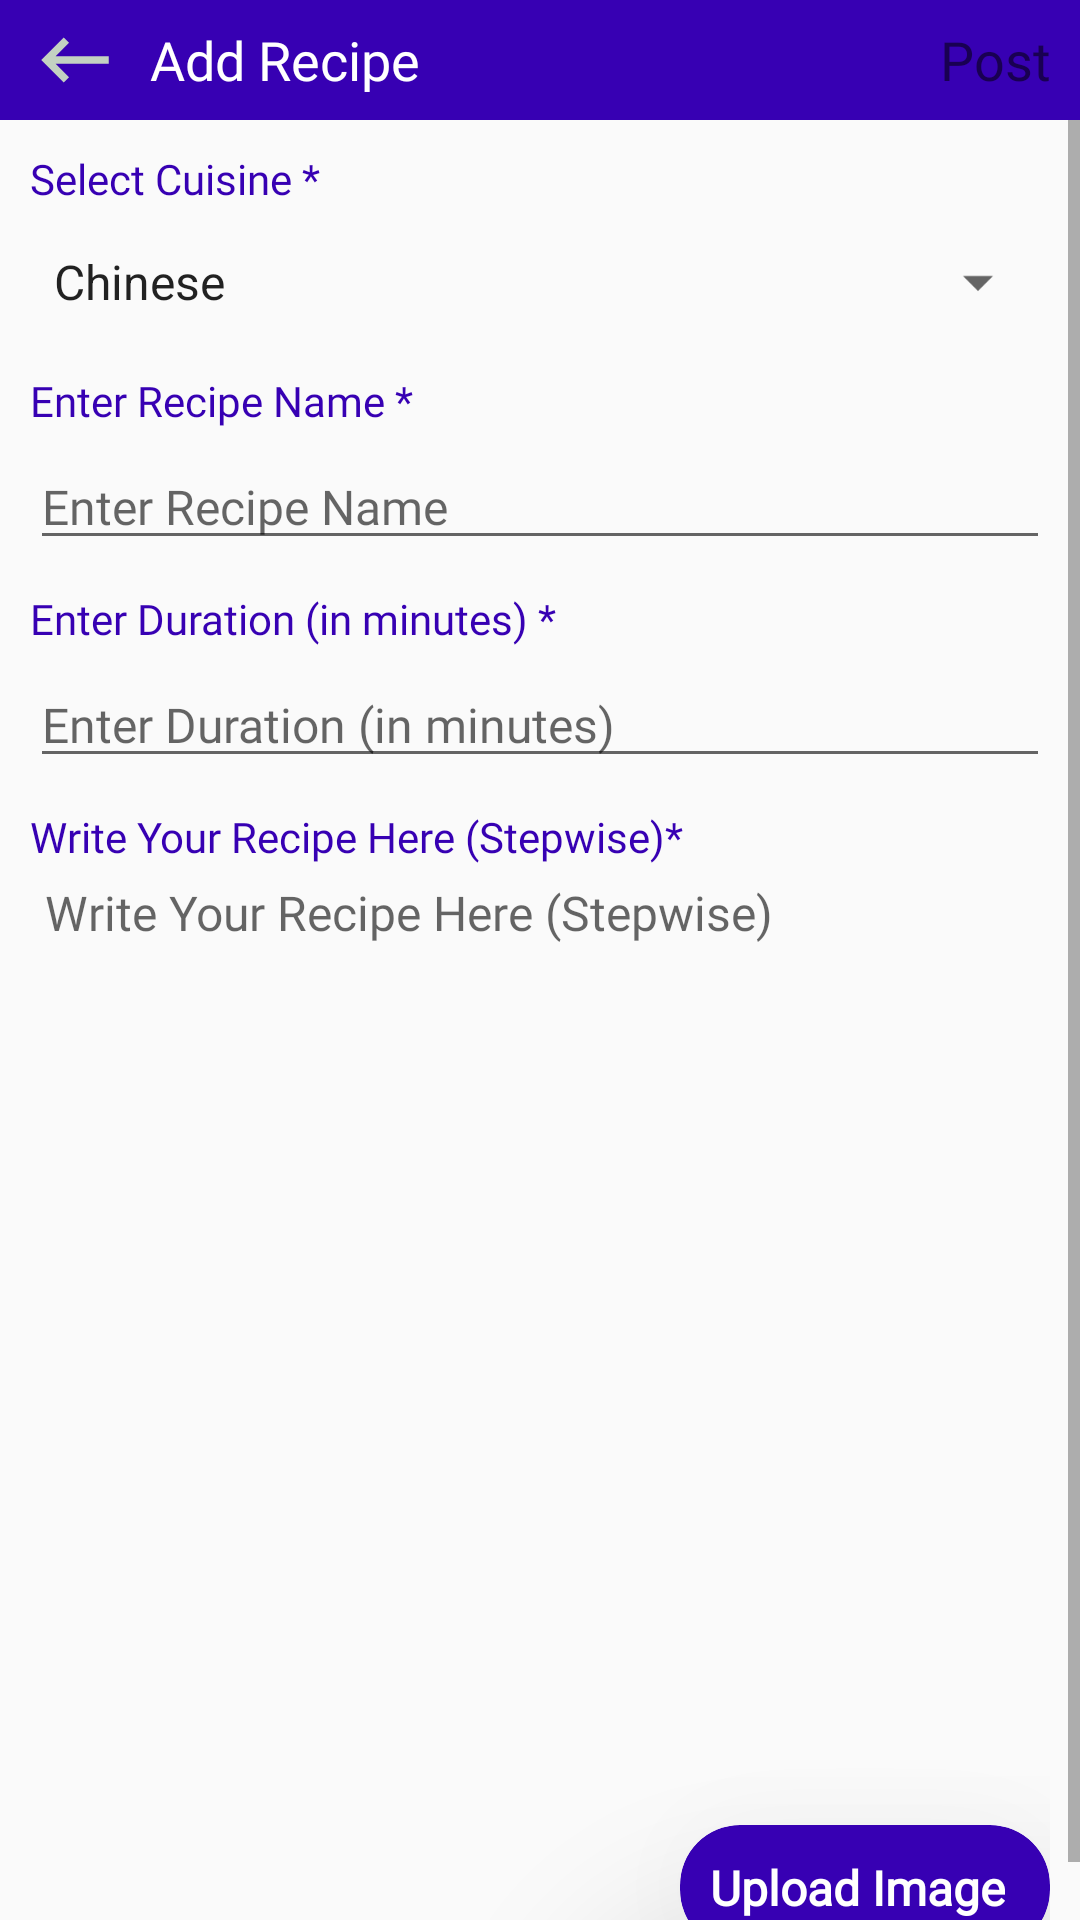

Where icons sit on this 1080×1920 app screen, as (x1, y1, x2, y2):
keyboard backspace: (41, 37, 109, 83)
